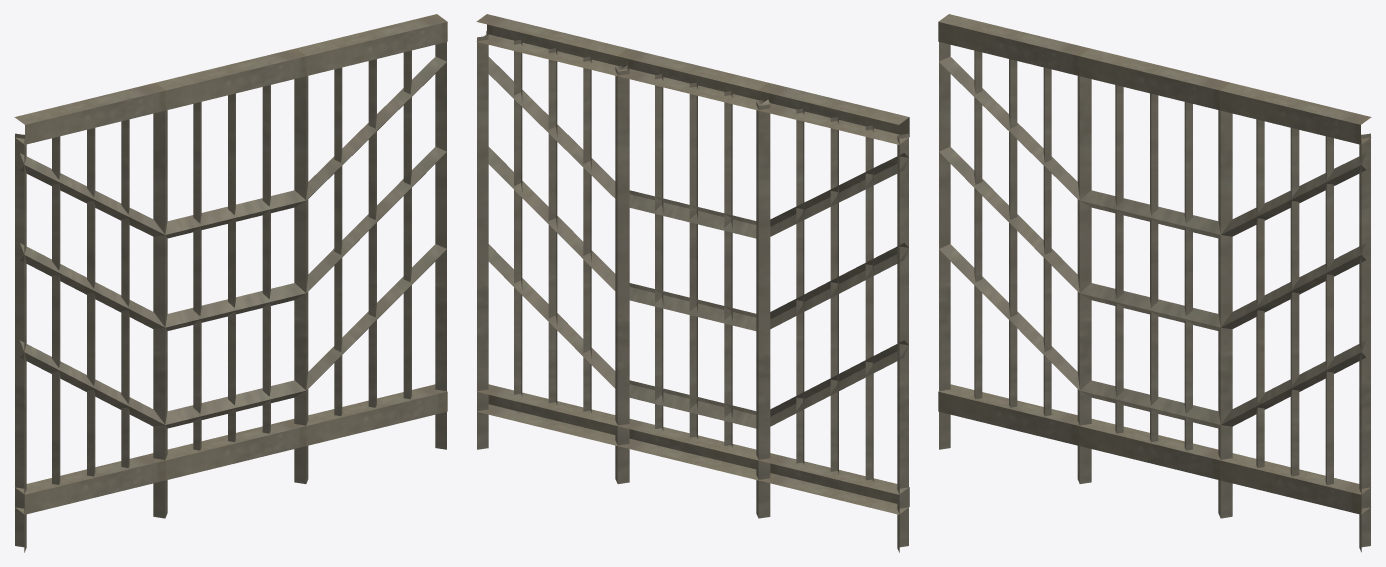
File: PortaoPredio15m.FBX
3 renders of one model, left to right at view 1: azimuth 30°, elevation 25°; view 2: azimuth 150°, elevation 25°; view 3: azimuth 330°, elevation 25°, orthographic.
Visible parts, largest first — view 1: PortaoPredio15m; view 2: PortaoPredio15m; view 3: PortaoPredio15m.
Boxes of the visible parts, bbox=[...] form: PortaoPredio15m: bbox=[14, 14, 447, 552]; PortaoPredio15m: bbox=[476, 14, 909, 552]; PortaoPredio15m: bbox=[938, 14, 1371, 552].
Size of the model in its own units: 300 by 291 by 13.14.
Materials: 1 (1 with a texture image).
